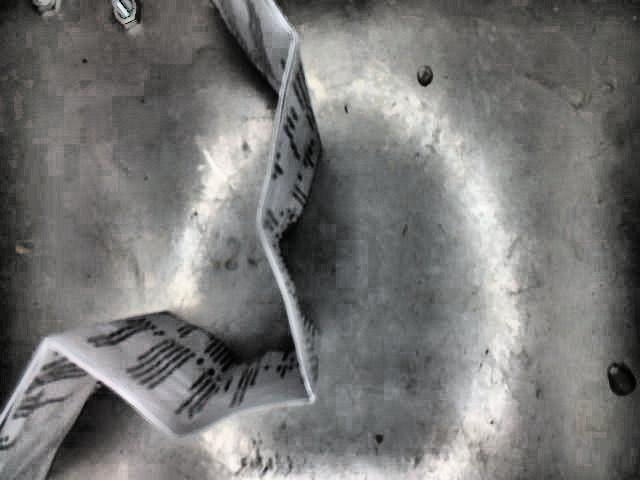Paper: (1, 0, 322, 479)
